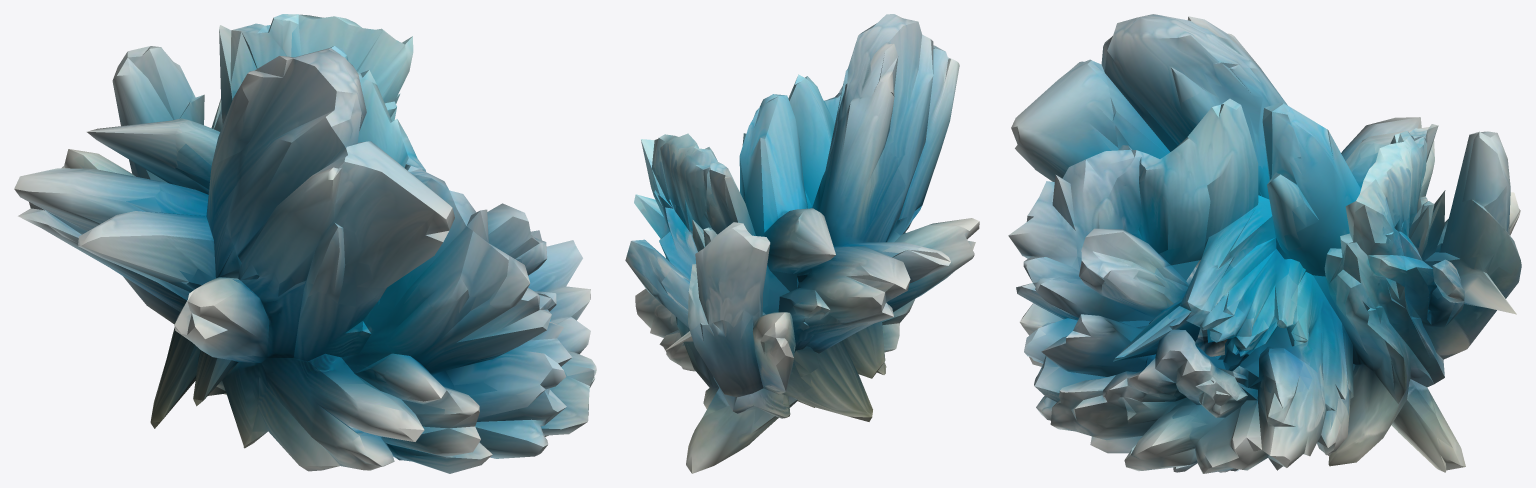
Rendered from cave_ore_01.glb.
3 renders of one model, left to right at view 1: azimuth 30°, elevation 25°; view 2: azimuth 150°, elevation 25°; view 3: azimuth 270°, elevation 25°, orthographic. The views are drawn at different scales.
Visible parts, largest first — view 1: 摩洛哥重晶石; view 2: 摩洛哥重晶石; view 3: 摩洛哥重晶石.
Part boxes in pixels (box(x1,y1,x2,y2)): 摩洛哥重晶石: box(14, 14, 596, 473); 摩洛哥重晶石: box(625, 14, 979, 473); 摩洛哥重晶石: box(1008, 14, 1521, 473).
Size of the model in its own units: 0.5613 by 0.5969 by 0.6611.
Materials: 1 (1 with a texture image).
